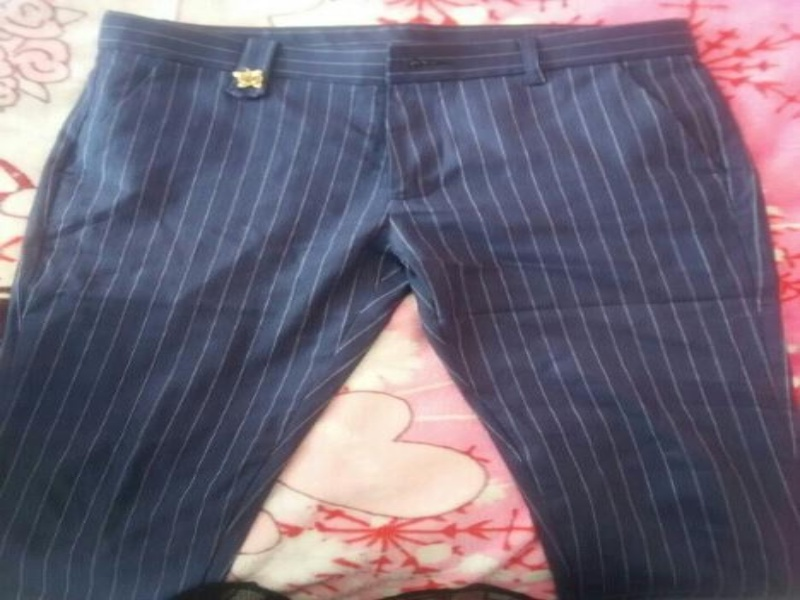trousers: (0, 7, 798, 599)
